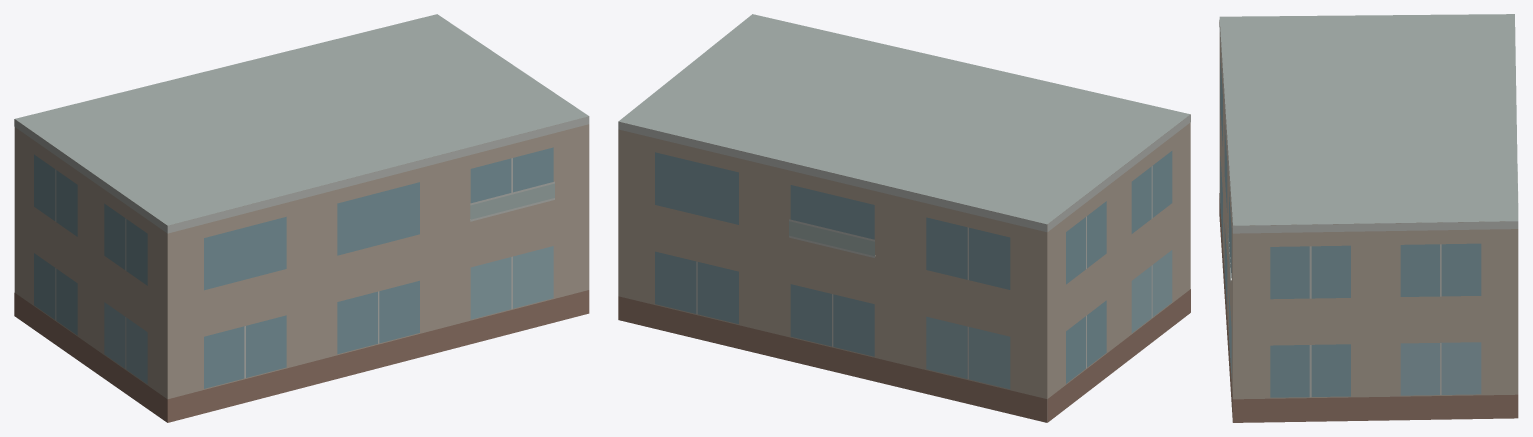
File: survey-upis-33016300.glb
The picture shows the model from 3 angles, left to right: view 1: azimuth 30°, elevation 25°; view 2: azimuth 150°, elevation 25°; view 3: azimuth 270°, elevation 25°; orthographic projection.
Parts seen in each view (by area): view 1: survey-upis-33016300.tmp; view 2: survey-upis-33016300.tmp; view 3: survey-upis-33016300.tmp.
Part boxes in pixels (box(x1,y1,x2,y2)): survey-upis-33016300.tmp: box(14, 14, 589, 422); survey-upis-33016300.tmp: box(618, 14, 1190, 422); survey-upis-33016300.tmp: box(1219, 14, 1518, 422).
Bounding box in the file's own units: 14.06 × 6.1 × 8.4.
